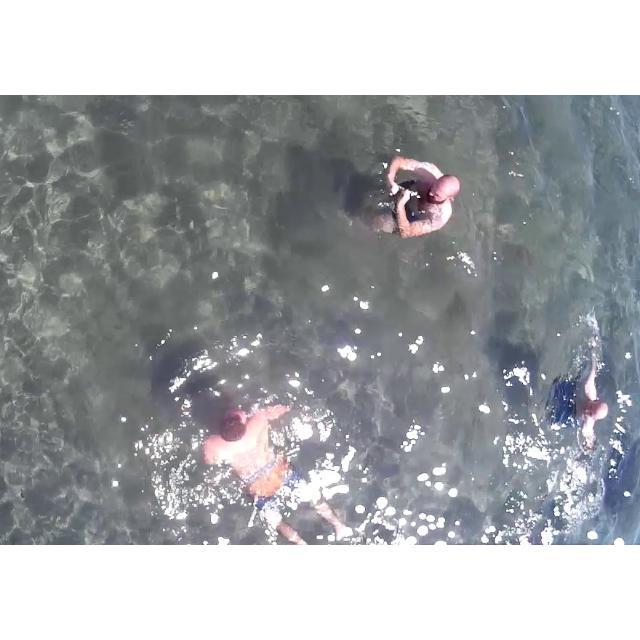human: (198, 385, 309, 518), (363, 139, 457, 248), (555, 345, 616, 457)
